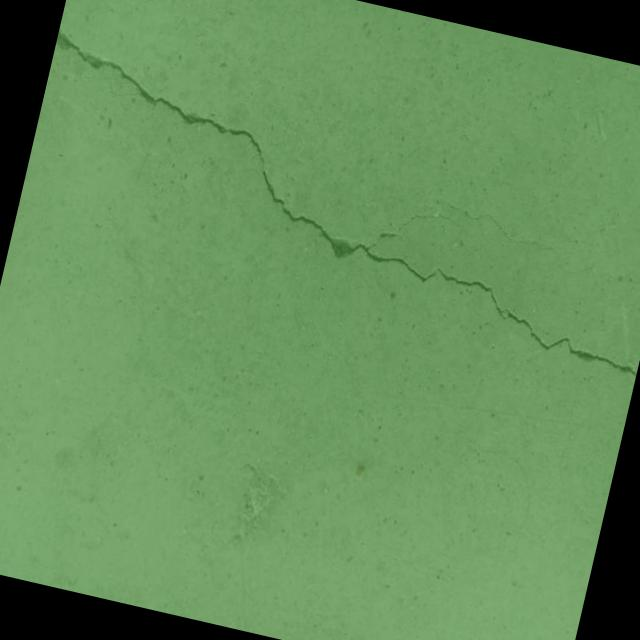crack: (11, 28, 640, 377), (416, 195, 564, 255)
